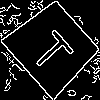T: (27, 22, 82, 76)
